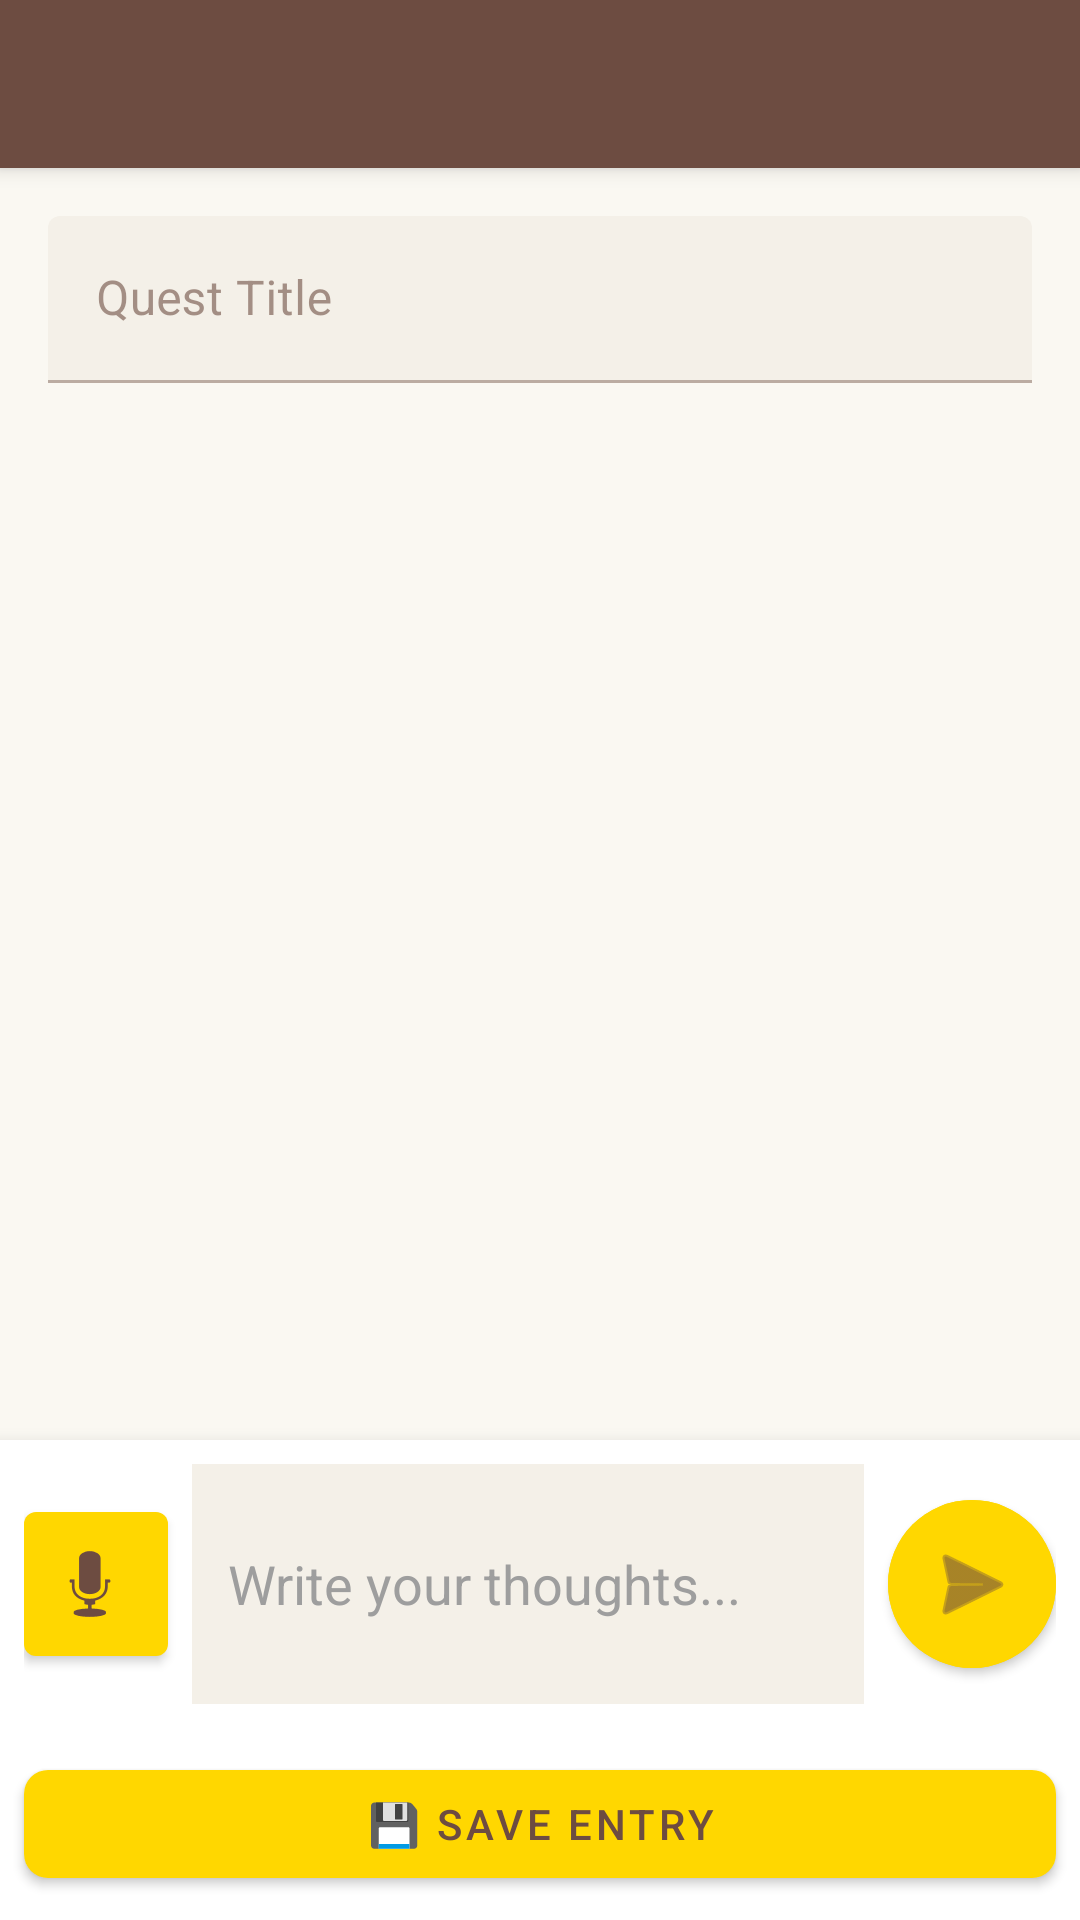

Icon click points for this 1080*1920 phone screenshot, format point (x, y):
send: point (972, 1584)
speak now: point (96, 1584)
